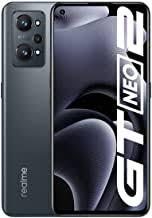Smartphone: (50, 4, 149, 215), (4, 3, 63, 210)
